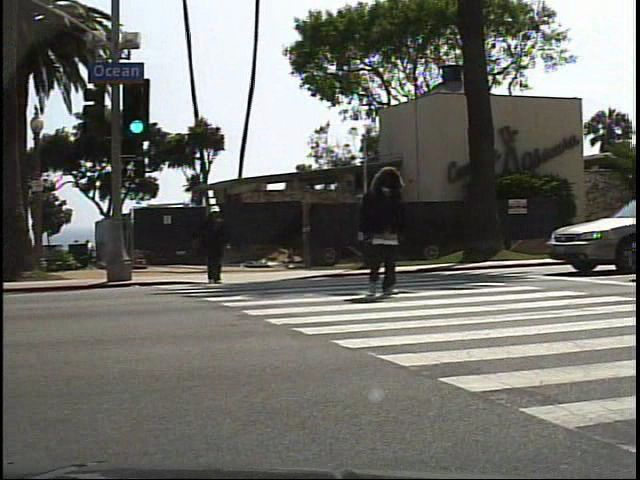person: (354, 159, 420, 309), (197, 198, 234, 293)
